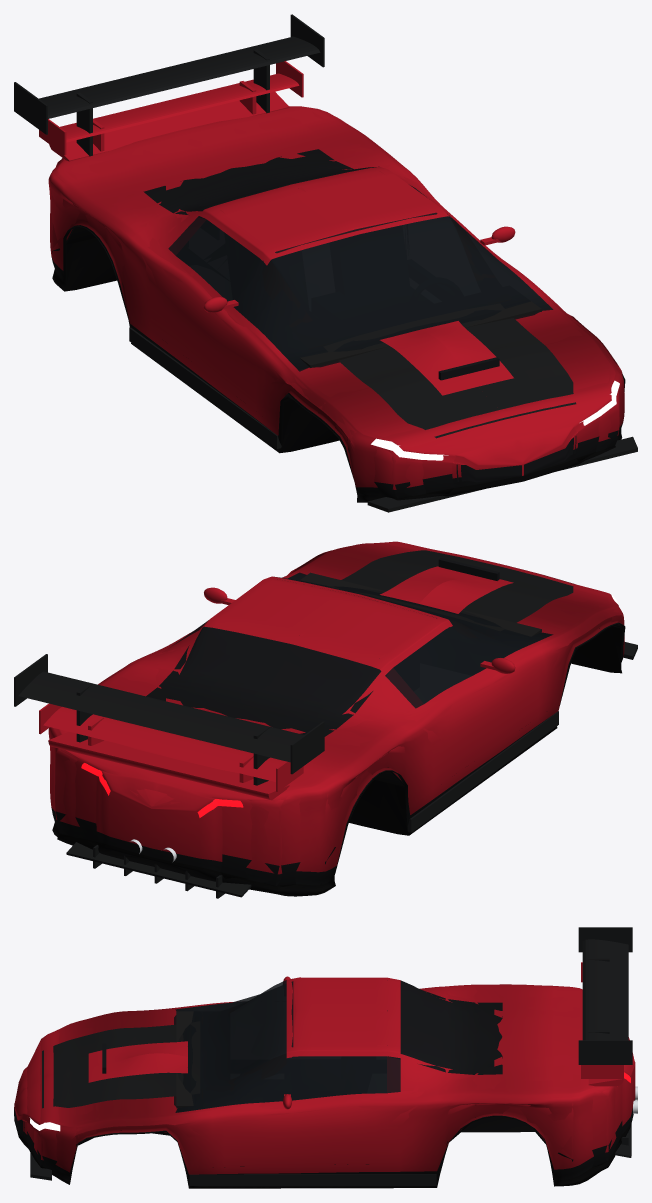
File: stratos.glb
The picture shows the model from 3 angles, top to bottom: view 1: azimuth 30°, elevation 25°; view 2: azimuth 150°, elevation 25°; view 3: azimuth 270°, elevation 25°; orthographic projection. The views are drawn at different scales.
Visible parts, largest first — view 1: body (×2), hood_3, spoiler_3, spoiler_2, hood_1, bumper_1, spoiler_1, grille, interior, headlights, mirrors; view 2: body (×2), spoiler_3, spoiler_2, hood_3, bumper_1, spoiler_1, hood_1, interior, mirrors, hood_1_intake; view 3: body (×2), spoiler_3, hood_3, bumper_1, hood_1, interior, spoiler_2.
Part boxes in pixels (box(x1,y1,x2,y2)): body (×2): box(48, 106, 625, 502); hood_3: box(323, 303, 576, 438); spoiler_3: box(14, 14, 324, 156); spoiler_2: box(39, 61, 303, 155); hood_1: box(380, 321, 513, 395); bumper_1: box(129, 327, 637, 512); spoiler_1: box(49, 92, 289, 161); grille: box(456, 436, 576, 482); interior: box(300, 301, 541, 367); headlights: box(371, 381, 619, 460); mirrors: box(204, 226, 515, 312); body (×2): box(48, 541, 625, 896); spoiler_3: box(14, 654, 324, 785); spoiler_2: box(39, 703, 303, 791); hood_3: box(327, 550, 573, 631); bumper_1: box(66, 642, 637, 898); spoiler_1: box(48, 732, 289, 800); hood_1: box(380, 566, 513, 613); interior: box(300, 572, 541, 636); mirrors: box(204, 587, 515, 673); hood_1_intake: box(438, 558, 499, 580); body (×2): box(14, 977, 635, 1188); spoiler_3: box(578, 927, 632, 1064); hood_3: box(42, 1021, 200, 1108); bumper_1: box(30, 1124, 631, 1185); hood_1: box(88, 1041, 187, 1082); interior: box(176, 1011, 193, 1108); spoiler_2: box(581, 962, 623, 1078).
Size of the model in its own units: 2.23 by 1.22 by 4.62.
